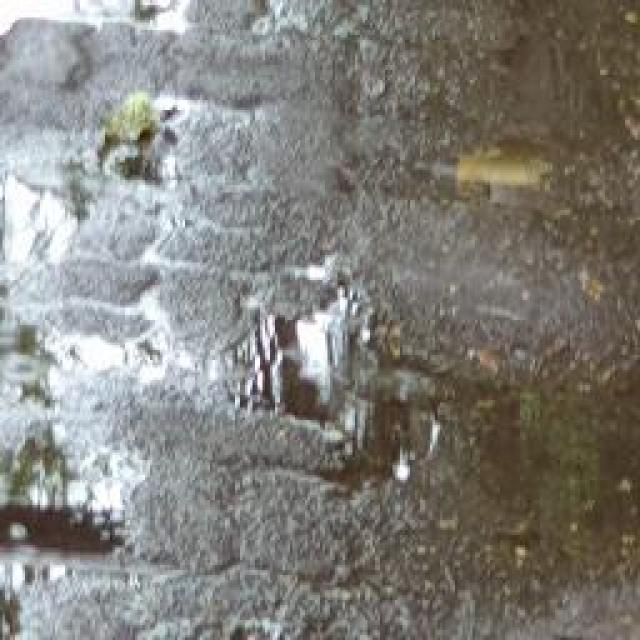waterlogging: (332, 323, 640, 585), (436, 138, 541, 192)
